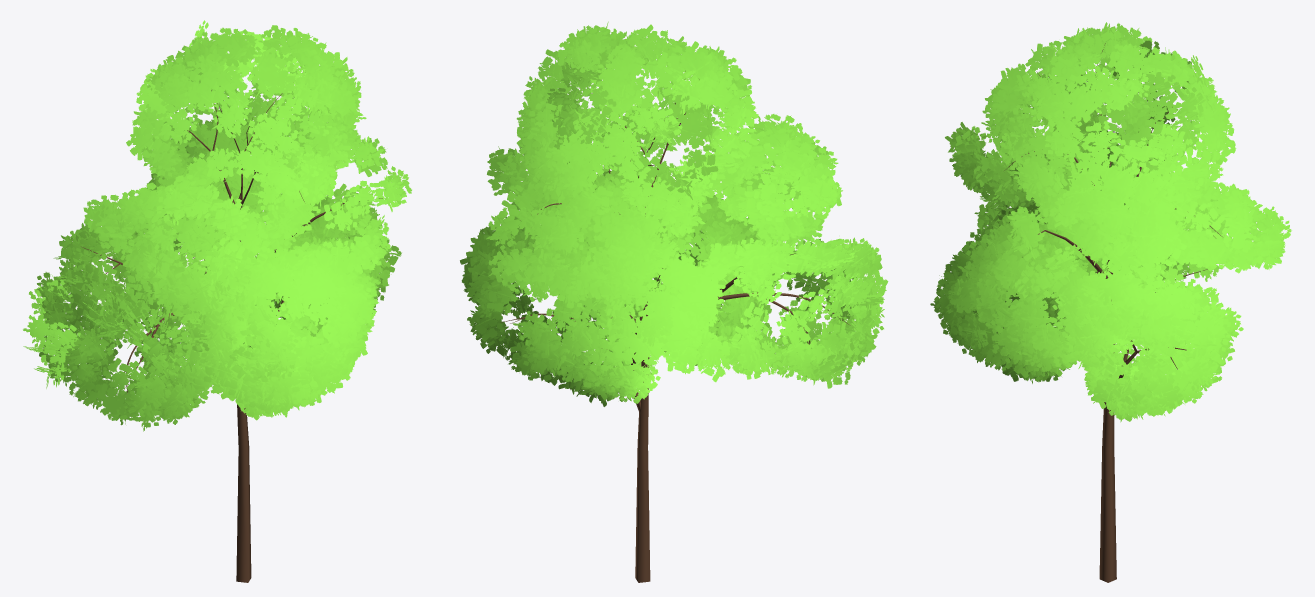
The model's file is TreeTest.fbx.
3 views of the same model, side by side, from view 1: azimuth 30°, elevation 25°; view 2: azimuth 150°, elevation 25°; view 3: azimuth 270°, elevation 25° (orthographic).
Parts seen in each view (by area): view 1: Leafs, TreeTrunk; view 2: Leafs, TreeTrunk; view 3: Leafs, TreeTrunk.
Part boxes in pixels (x1=…): Leafs: x1=23, y1=20, x2=411, y2=431; TreeTrunk: x1=81, y1=90, x2=382, y2=582; Leafs: x1=460, y1=21, x2=888, y2=406; TreeTrunk: x1=501, y1=71, x2=850, y2=582; Leafs: x1=930, y1=22, x2=1291, y2=422; TreeTrunk: x1=1004, y1=43, x2=1222, y2=582.
Bounding box in the file's own units: 522 × 700 × 439.
